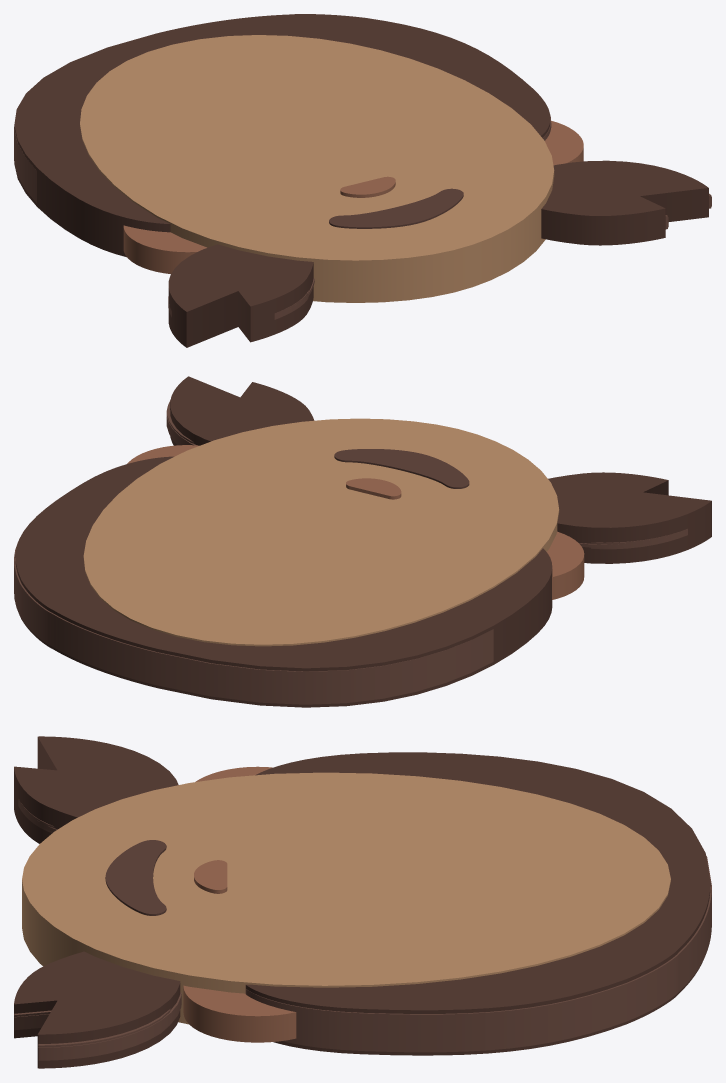
Rendered from emoji_u1f467_1f3fd.glb.
3 views of the same model, one above another, from view 1: azimuth 30°, elevation 25°; view 2: azimuth 150°, elevation 25°; view 3: azimuth 270°, elevation 25° (orthographic). The views are drawn at different scales.
Parts seen in each view (by area): view 1: emoji_u1f467_1f3fd; view 2: emoji_u1f467_1f3fd; view 3: emoji_u1f467_1f3fd.
Part boxes in pixels (x1,y1,x2,y2): emoji_u1f467_1f3fd: [14, 14, 711, 347]; emoji_u1f467_1f3fd: [14, 376, 711, 707]; emoji_u1f467_1f3fd: [14, 736, 711, 1068].
Bounding box in the file's own units: 0.0336 × 0.003 × 0.0335.
